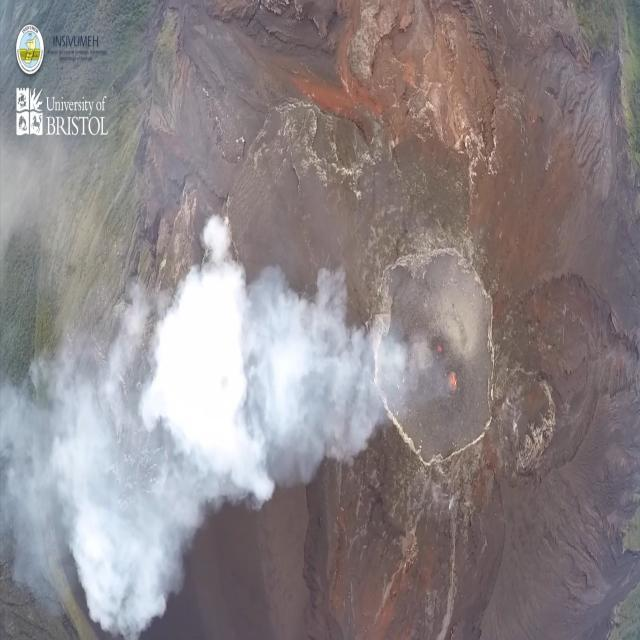Plume: (1, 216, 377, 638)
Summit: (367, 228, 507, 467)
